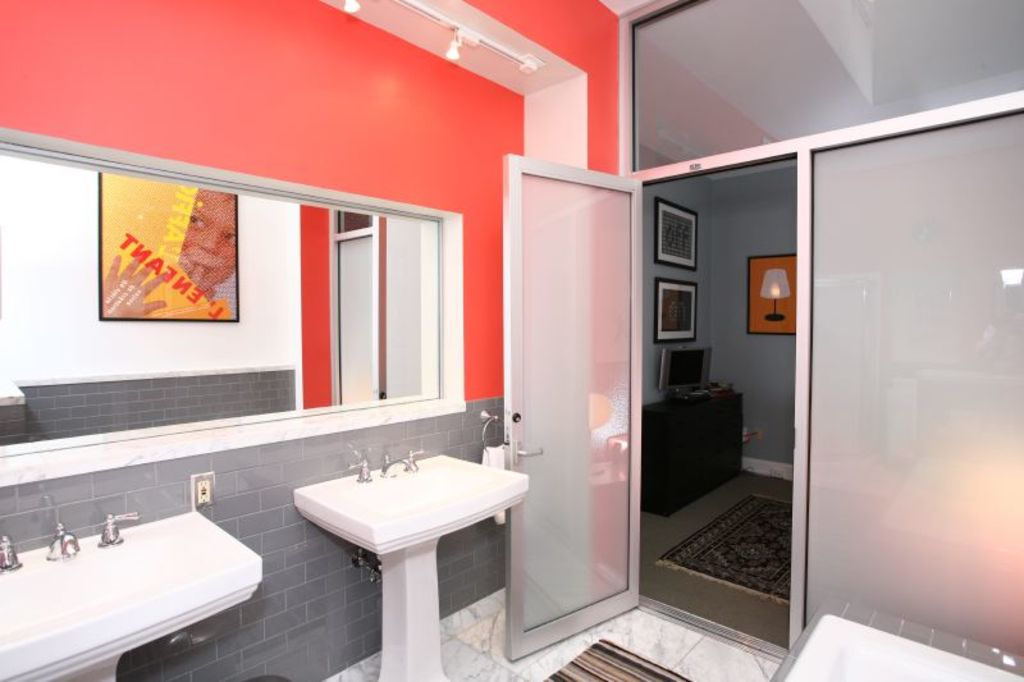tap: (373, 445, 419, 479), (43, 523, 80, 564)
